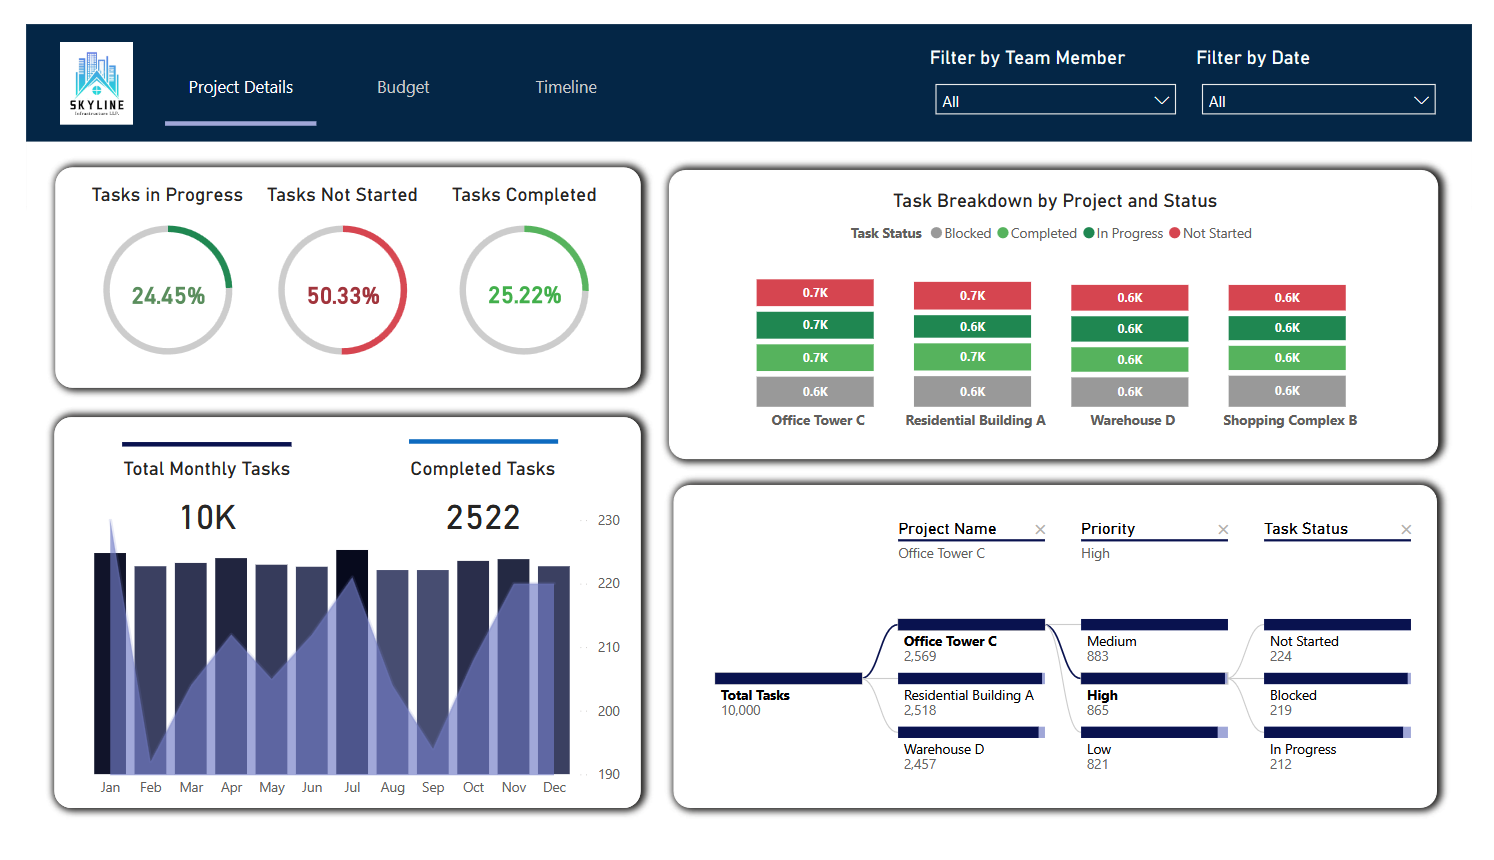

What the dashboard file says about the page in this screenshot:
{"tool":"powerbi","page":{"name":"Project Details","canvas":[1280,720],"ordinal":0},"visuals":[{"type":"slicer","title":"Filter by Team Member","fields":{"Values":["Dataset.Assigned To"]},"box":[795,18.7,232.5,71.2],"z":0,"group":"g1"},{"type":"textbox","box":[25,347.5,518.8,346.2],"z":0},{"type":"image","box":[0,11.2,125,82.5],"z":1000,"group":"g1"},{"type":"textbox","box":[25.5,127.3,518.7,194.9],"z":1000},{"type":"slicer","title":"Filter by Date","fields":{"Values":["Calendar.Year","Calendar.Month"]},"box":[1031.2,18.7,226.2,72.5],"z":2000,"group":"g1"},{"type":"textbox","box":[572.5,407.5,676.2,286.2],"z":2000},{"type":"textbox","box":[568.9,129.3,680.6,255.2],"z":3000},{"type":"textbox","box":[0,0,1280,103.8],"z":4000},{"type":"card","title":"Total Monthly Tasks","fields":{"Values":["KPI Measures.Total Tasks"]},"box":[40,382.5,240,83.8],"z":5000},{"type":"donutChart","title":"Tasks Completed","fields":{"Y":["KPI Measures.% Completed","KPI Measures.R % Completed"]},"box":[338.4,141.1,205.8,171.5],"z":6000},{"type":"card","fields":{"Values":["KPI Measures.% Completed"]},"box":[363.1,197.3,156.4,85.1],"z":7000},{"type":"donutChart","title":"Tasks Not Started","fields":{"Y":["KPI Measures.% Not_Started","KPI Measures.R % Not_Started"]},"box":[188.8,141.1,182.5,171.5],"z":8000},{"type":"card","fields":{"Values":["KPI Measures.% Not_Started"]},"box":[223.1,202.8,115.3,74.1],"z":9000},{"type":"donutChart","title":"Tasks in Progress","fields":{"Y":["KPI Measures.% Progress","KPI Measures.R % Progress"]},"box":[25.5,141.1,199,171.5],"z":10000},{"type":"card","fields":{"Values":["KPI Measures.% Progress"]},"box":[70.8,204.2,109.8,71.4],"z":11000},{"type":"lineStackedColumnComboChart","fields":{"Y":["KPI Measures.Total Tasks"],"Category":["Calendar.Month"],"Y2":["KPI Measures.Total Completed Tasks"]},"box":[41.2,425.4,489.9,269],"z":12000},{"type":"card","title":"Completed Tasks","fields":{"Values":["KPI Measures.Total Completed Tasks"]},"box":[286.2,382.5,236.2,83.8],"z":13000},{"type":"columnChart","title":"Task Breakdown by Project and Status","fields":{"Category":["Dataset.Project Name"],"Y":["KPI Measures.Total Tasks"],"Series":["Dataset.Task Status"]},"box":[579.9,140.3,660,234.6],"z":14000},{"type":"decompositionTreeVisual","fields":{"Analyze":["KPI Measures.Total Tasks"],"ExplainBy":["Dataset.Project Name","Dataset.Priority","Dataset.Task Status"]},"box":[583.8,425,660,255],"z":15000},{"type":"shape","box":[338.8,345,132.5,48.8],"z":16000},{"type":"shape","box":[85,347.5,150,48.8],"z":17000},{"type":"pageNavigator","box":[122.5,18.8,422.5,71.2],"z":18000},{"type":"group","id":"g1","title":"Navigation Group","box":[0,11.2,1257.5,82.5],"z":19000}]}

Visuals, with their boxes in screenshot pixels (x1, y1, x2, y2), scaled from the page's 1280x720 canvas onto the 1494x860 screenshot:
"Filter by Team Member" slicer: left=928, top=22, right=1199, bottom=107
textbox: left=29, top=415, right=635, bottom=829
image: left=0, top=13, right=146, bottom=112
textbox: left=30, top=152, right=635, bottom=385
"Filter by Date" slicer: left=1204, top=22, right=1468, bottom=109
textbox: left=668, top=487, right=1457, bottom=829
textbox: left=664, top=154, right=1458, bottom=459
textbox: left=0, top=0, right=1493, bottom=124
"Total Monthly Tasks" card: left=47, top=457, right=327, bottom=557
"Tasks Completed" donutChart: left=395, top=169, right=635, bottom=373
card - KPI Measures.% Completed: left=424, top=236, right=606, bottom=337
"Tasks Not Started" donutChart: left=220, top=169, right=433, bottom=373
card - KPI Measures.% Not_Started: left=260, top=242, right=395, bottom=331
"Tasks in Progress" donutChart: left=30, top=169, right=262, bottom=373
card - KPI Measures.% Progress: left=83, top=244, right=211, bottom=329
lineStackedColumnComboChart - KPI Measures.Total Tasks x Calendar.Month: left=48, top=508, right=620, bottom=829
"Completed Tasks" card: left=334, top=457, right=610, bottom=557
"Task Breakdown by Project and Status" columnChart: left=677, top=168, right=1447, bottom=448
decompositionTreeVisual - KPI Measures.Total Tasks x Dataset.Project Name: left=681, top=508, right=1452, bottom=812
shape: left=395, top=412, right=550, bottom=470
shape: left=99, top=415, right=274, bottom=473
pageNavigator: left=143, top=22, right=636, bottom=108
"Navigation Group" group: left=0, top=13, right=1468, bottom=112
